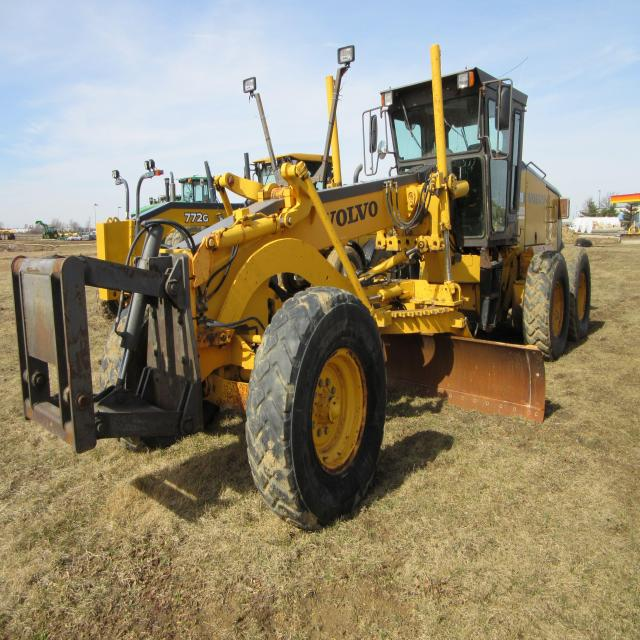Grader: (37, 25, 630, 525)
